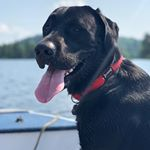puppy: (31, 3, 130, 150)
